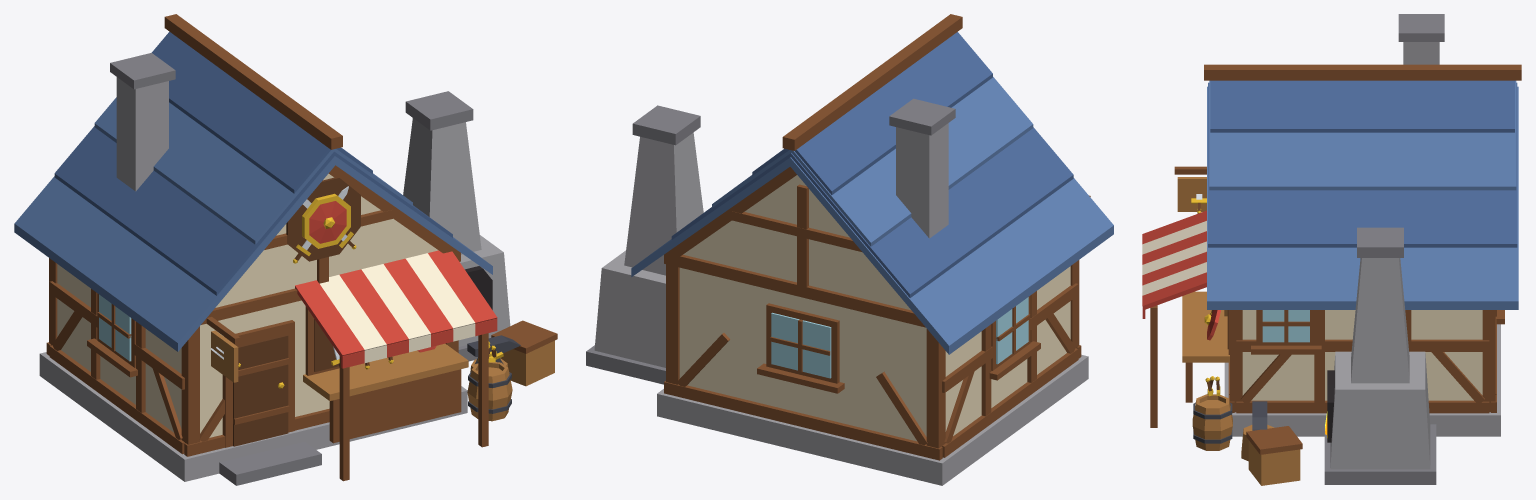
The model's file is weapon-shop.glb.
The picture shows the model from 3 angles, left to right: view 1: azimuth 30°, elevation 25°; view 2: azimuth 150°, elevation 25°; view 3: azimuth 270°, elevation 25°; orthographic projection. The views are drawn at different scales.
Parts seen in each view (by area): view 1: WeaponShop; view 2: WeaponShop; view 3: WeaponShop.
Boxes of the visible parts, x1=… form: WeaponShop: x1=14, y1=14, x2=557, y2=485; WeaponShop: x1=586, y1=14, x2=1113, y2=485; WeaponShop: x1=1142, y1=14, x2=1521, y2=485.
Size of the model in its own units: 7.63 by 5.81 by 6.45.
